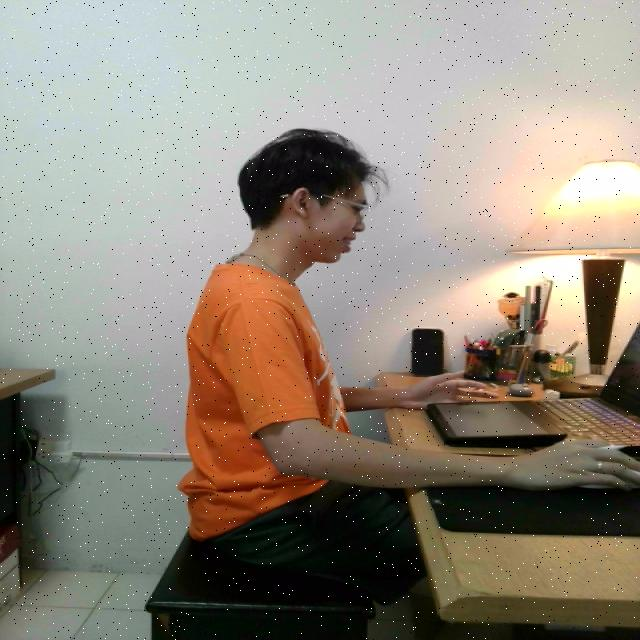Good: (180, 123, 468, 588)
